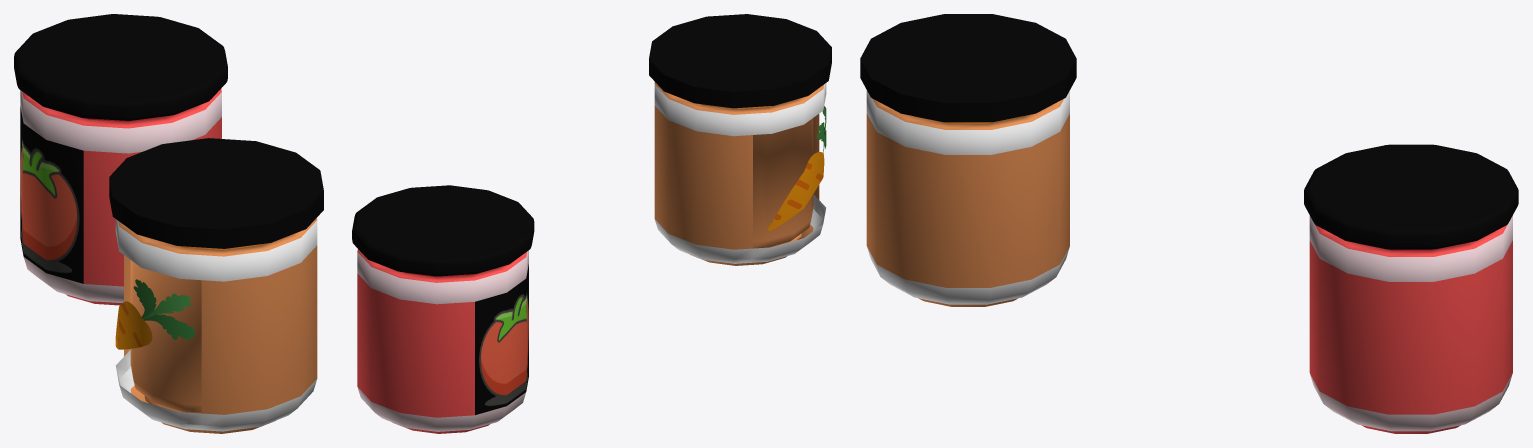
Rendered from toples bibit wortel.fbx.
3 renders of one model, left to right at view 1: azimuth 30°, elevation 25°; view 2: azimuth 150°, elevation 25°; view 3: azimuth 270°, elevation 25°, orthographic. The views are drawn at different scales.
Visible parts, largest first — view 1: Cylinder.048, Cylinder.045, Cylinder.047, Cylinder.046; view 2: Cylinder.045, Cylinder.048, Cylinder.047, Cylinder.046; view 3: Cylinder.045, Cylinder.048, Cylinder.047, Cylinder.046.
Part boxes in pixels (x1=…): Cylinder.048: x1=115, y1=218, x2=317, y2=433; Cylinder.045: x1=20, y1=89, x2=221, y2=305; Cylinder.047: x1=109, y1=138, x2=323, y2=249; Cylinder.046: x1=14, y1=14, x2=227, y2=121; Cylinder.045: x1=357, y1=249, x2=528, y2=433; Cylinder.048: x1=654, y1=82, x2=826, y2=265; Cylinder.047: x1=649, y1=14, x2=831, y2=109; Cylinder.046: x1=352, y1=185, x2=534, y2=277; Cylinder.045: x1=1309, y1=215, x2=1512, y2=433; Cylinder.048: x1=866, y1=90, x2=1069, y2=306; Cylinder.047: x1=860, y1=14, x2=1076, y2=123; Cylinder.046: x1=1304, y1=144, x2=1518, y2=250.
Bounding box in the file's own units: 351 × 309 × 648.
Materials: 9 (2 with a texture image).
